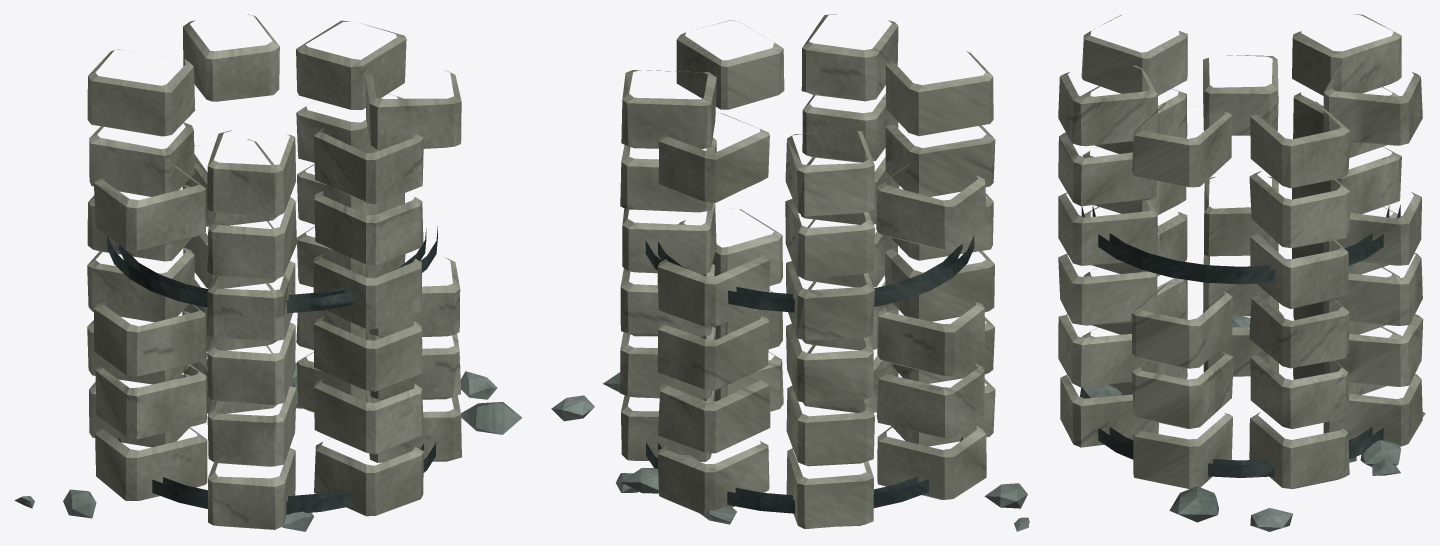
The model's file is 0418_ruined_tower_18.glb.
The picture shows the model from 3 angles, left to right: view 1: azimuth 30°, elevation 25°; view 2: azimuth 150°, elevation 25°; view 3: azimuth 270°, elevation 25°; orthographic projection. The views are drawn at different scales.
Visible parts, largest first — view 1: stone_light, stone_dark, stone; view 2: stone_light, stone_dark, stone; view 3: stone_light, stone_dark, stone.
Part boxes in pixels (bbox=[...]): stone_light: bbox=[87, 14, 461, 529]; stone_dark: bbox=[107, 226, 437, 514]; stone: bbox=[14, 362, 522, 531]; stone_light: bbox=[620, 14, 995, 528]; stone_dark: bbox=[645, 235, 974, 513]; stone: bbox=[551, 372, 1029, 531]; stone_light: bbox=[1058, 14, 1423, 489]; stone_dark: bbox=[1081, 204, 1400, 477]; stone: bbox=[1080, 311, 1425, 531].
Bounding box in the file's own units: 3.34 × 2.51 × 2.32.
Materials: 3 (3 with a texture image).
